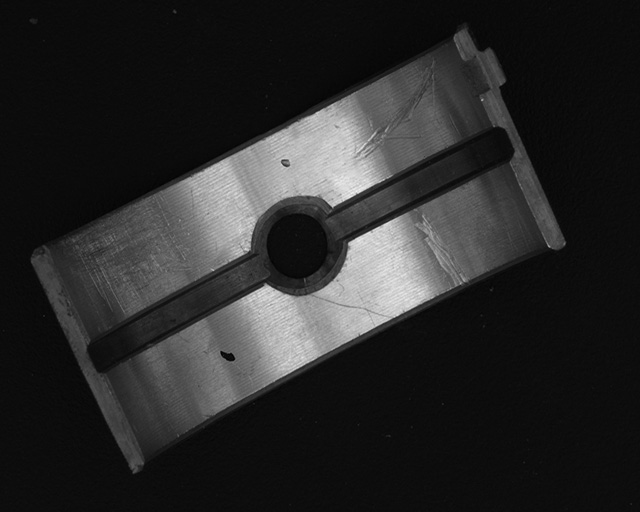blot: (219, 350, 237, 362)
bruise: (281, 158, 291, 169)
gap: (85, 258, 266, 373), (330, 129, 517, 238)
hole: (254, 200, 344, 295)
nick: (352, 57, 437, 161), (413, 208, 469, 288), (309, 294, 398, 319)
scratch: (58, 181, 191, 315)
